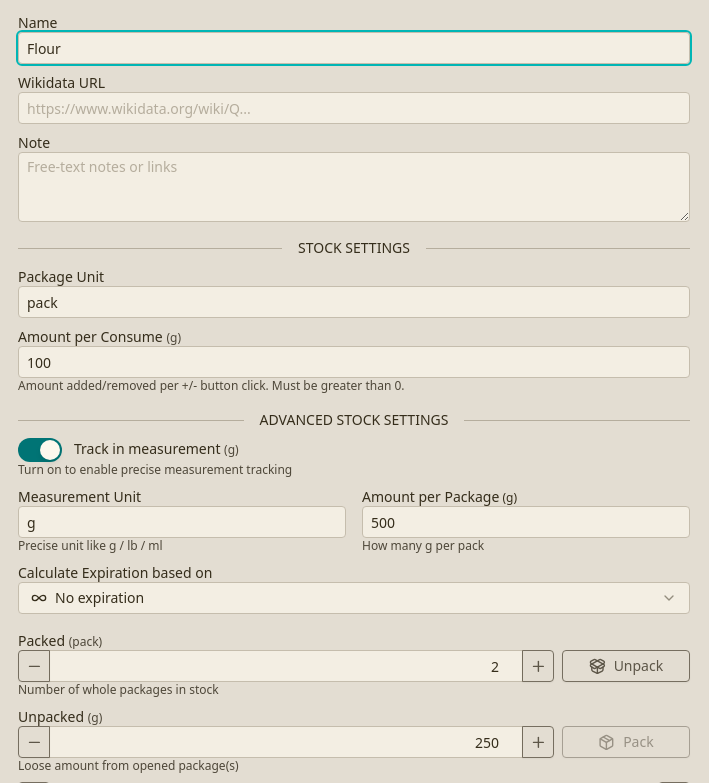
Scenario: ItemForm — create mode (no onDirtyChange) › user toggling track in measurement rescales the quantities held in that unit
expect the number field labelled "Unpacked (g)" holds "250": met, box [49,726,523,758]
Click the switch named "track in measurement" at (40, 450), box [18,438,62,462]
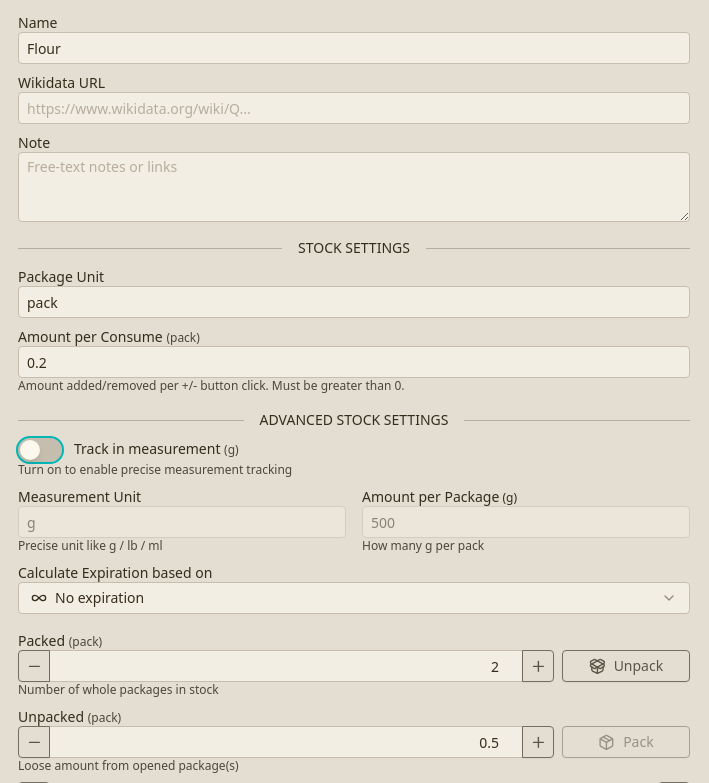
expect the number field labelled "Unpacked (pack)" holds "0.5": met, box [49,726,523,758]
// When the user turns it back ON
Click the switch named "track in measurement" at (40, 450), box [18,438,62,462]
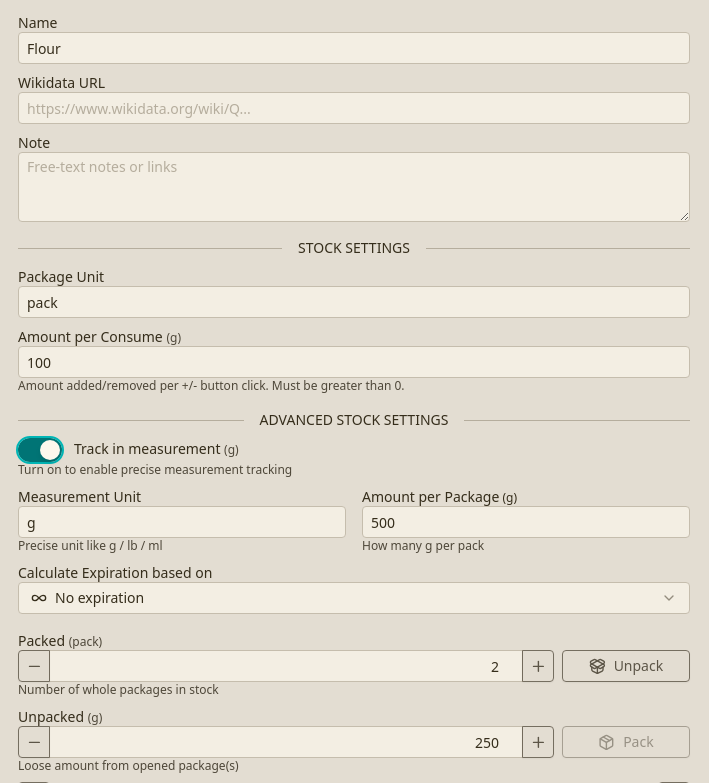
expect the number field labelled "Unpacked (g)" holds "250": met, box [49,726,523,758]
